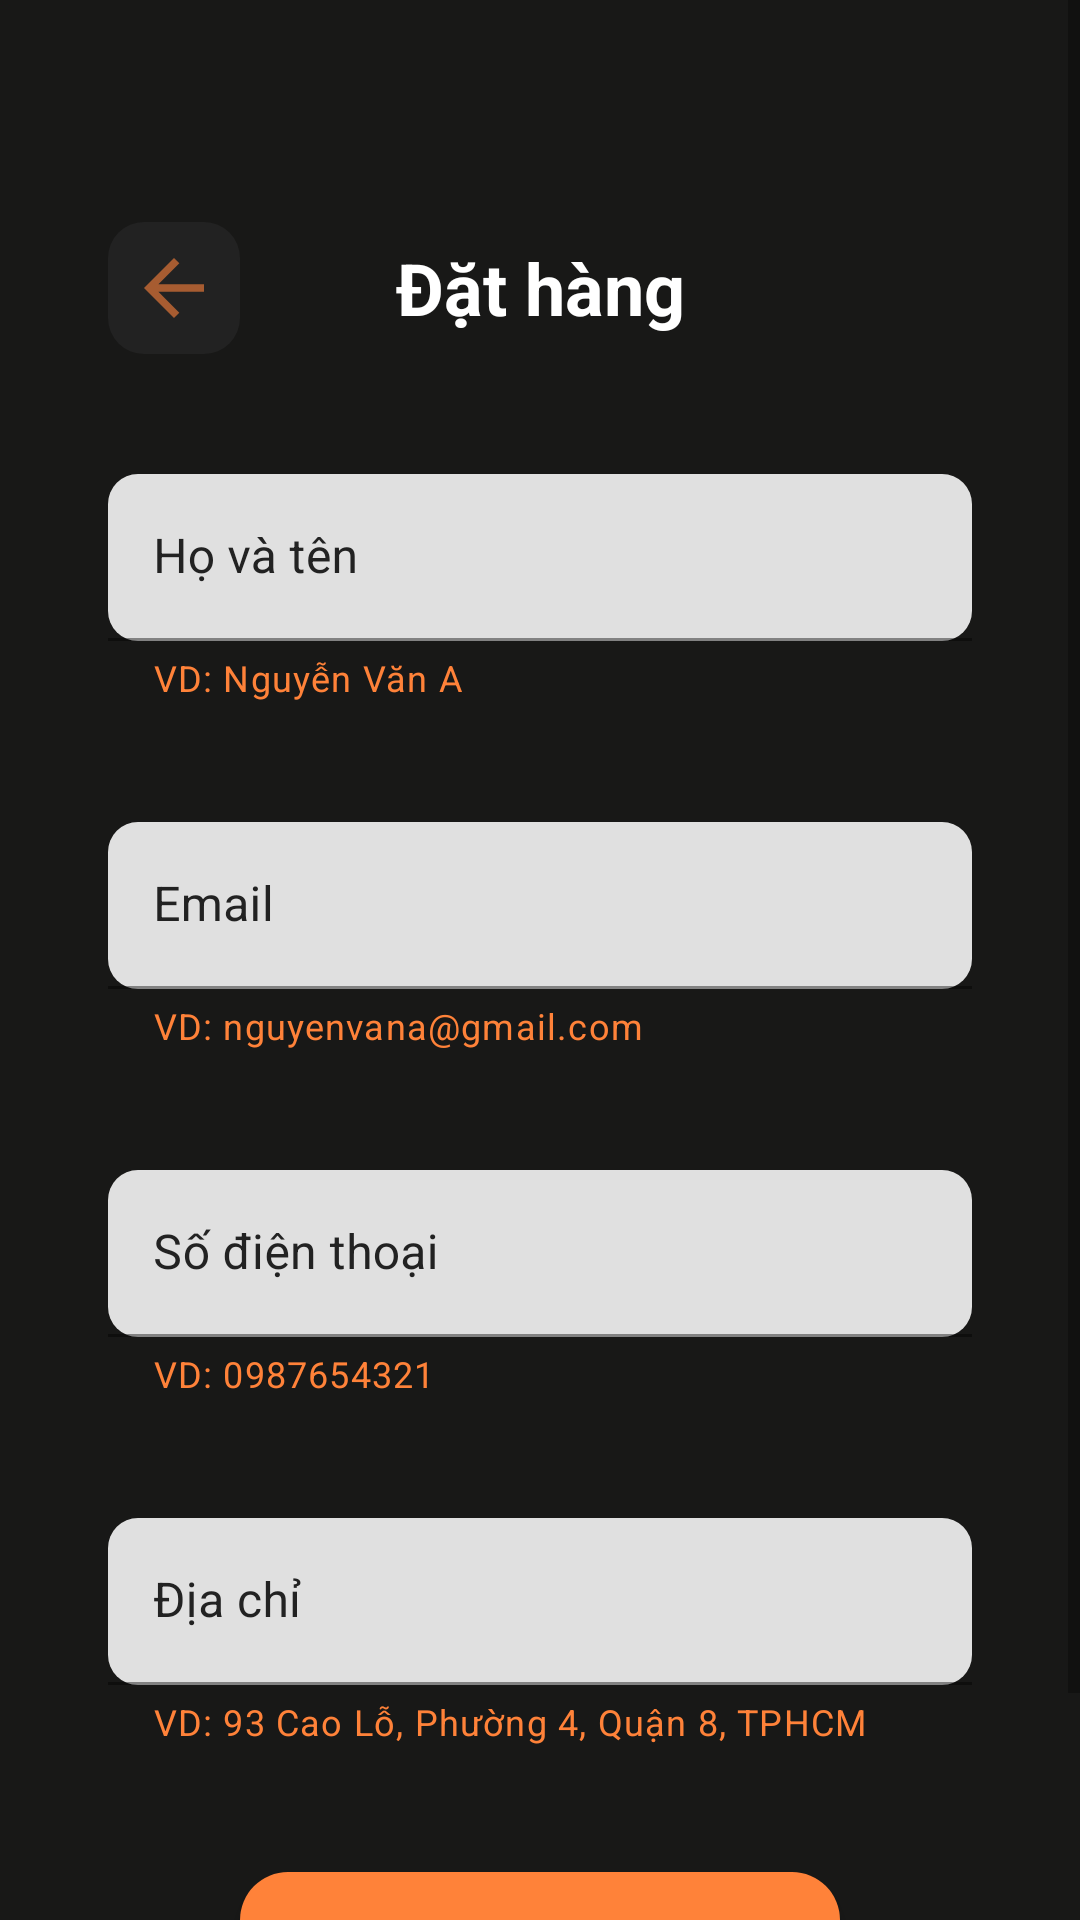

Locate icon controls on the screen. Image size 1080w x 1920h, boxes as [x1=x1, y1=y1, x2=x2, y2=y2].
back: [x1=108, y1=222, x2=240, y2=354]
